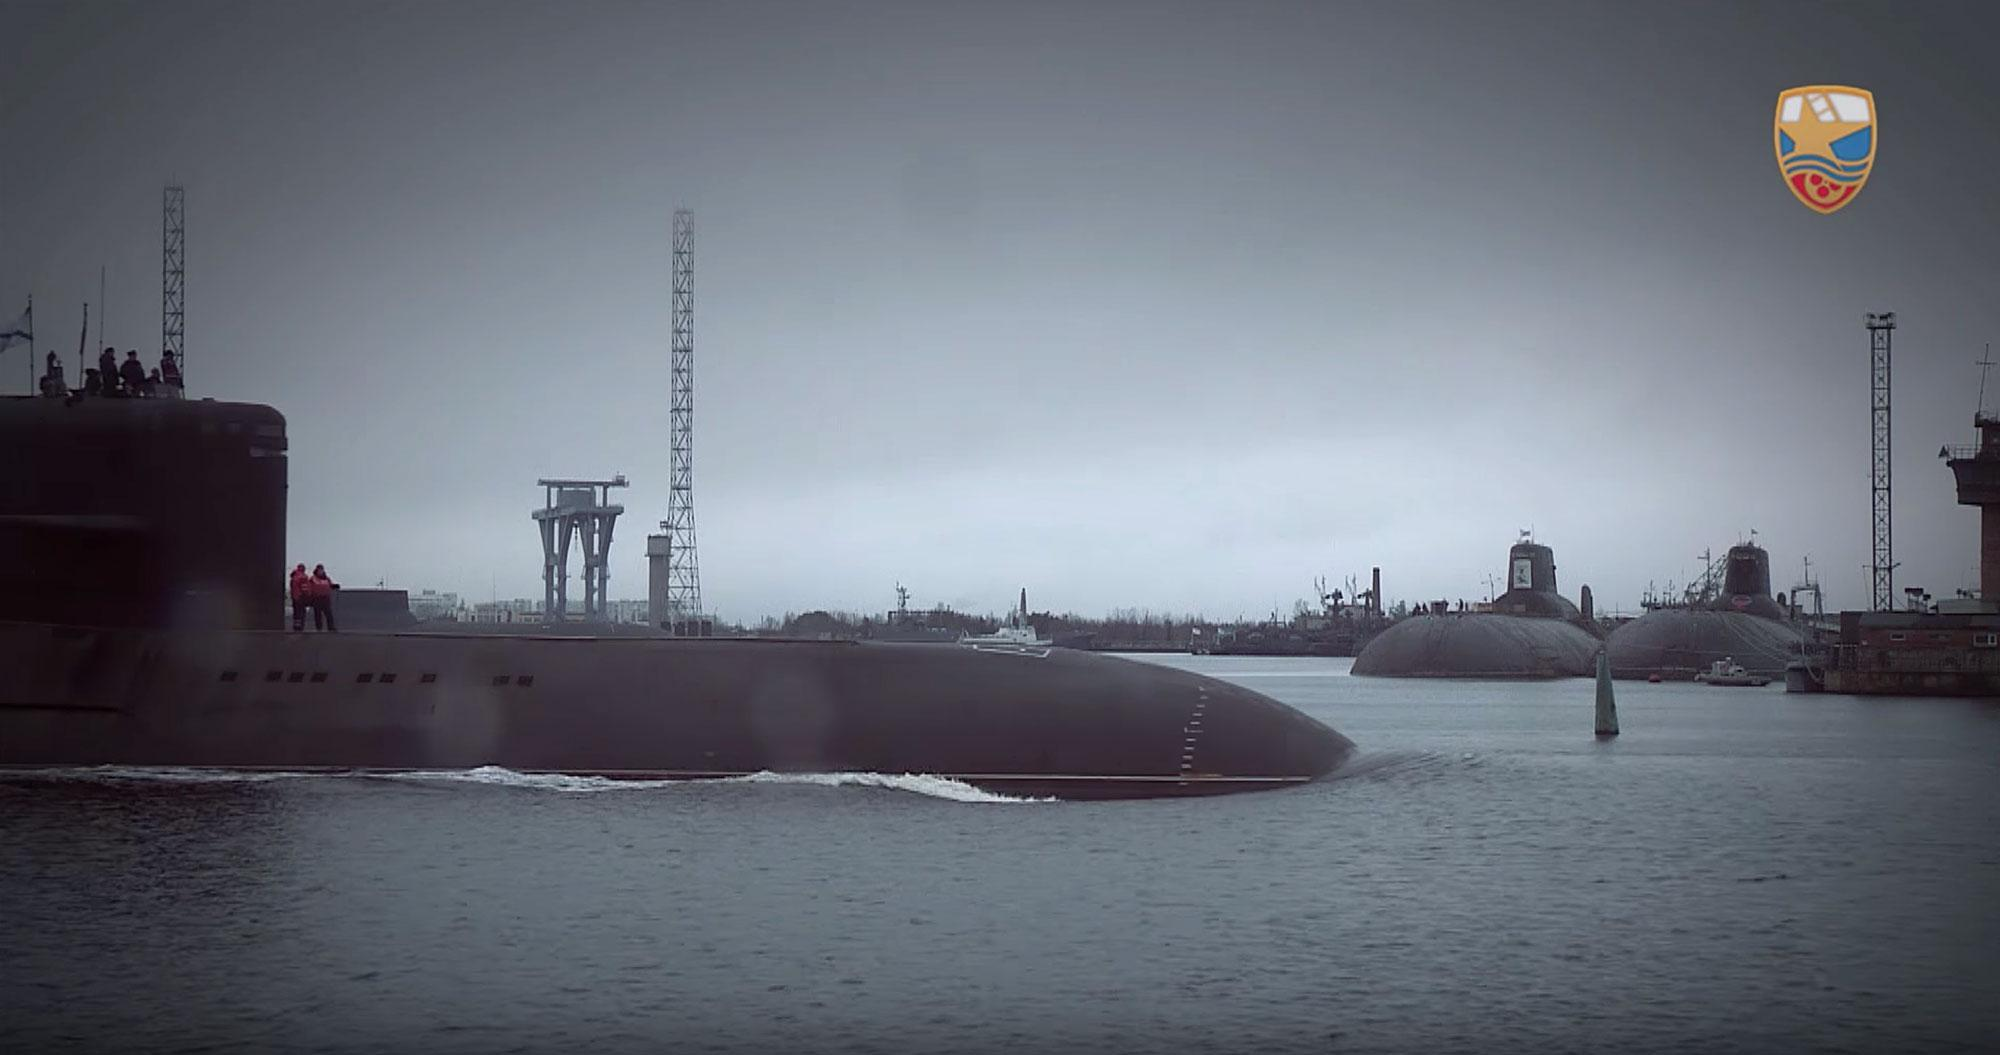Submarine: (0, 220, 1432, 943)
